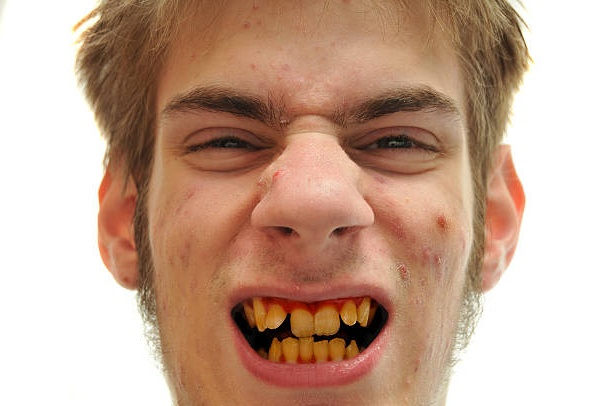Tooth Discoloration: (244, 294, 378, 340), (265, 331, 362, 365)
